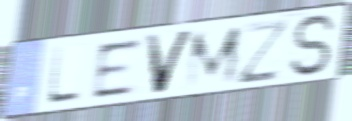E: (91, 35, 143, 101)
L: (44, 45, 83, 107)
M: (183, 23, 245, 91)
S: (288, 12, 340, 79)
V: (143, 27, 198, 97)
Z: (236, 16, 293, 87)
